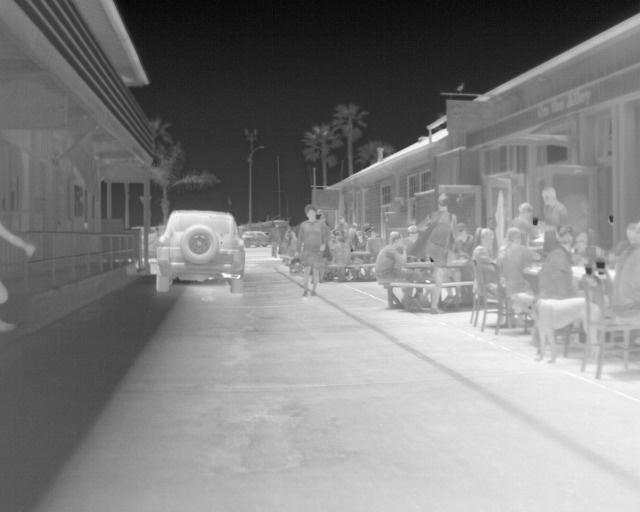bicycle: (153, 207, 244, 291), (244, 228, 270, 247)
empty: (414, 192, 457, 312), (291, 202, 329, 295), (534, 225, 578, 300), (608, 224, 639, 320), (497, 226, 535, 294), (377, 230, 414, 282), (470, 225, 498, 289), (536, 189, 572, 229), (507, 201, 538, 241), (573, 230, 597, 263), (366, 227, 384, 264), (331, 234, 351, 265), (268, 220, 284, 256), (454, 222, 469, 259)
